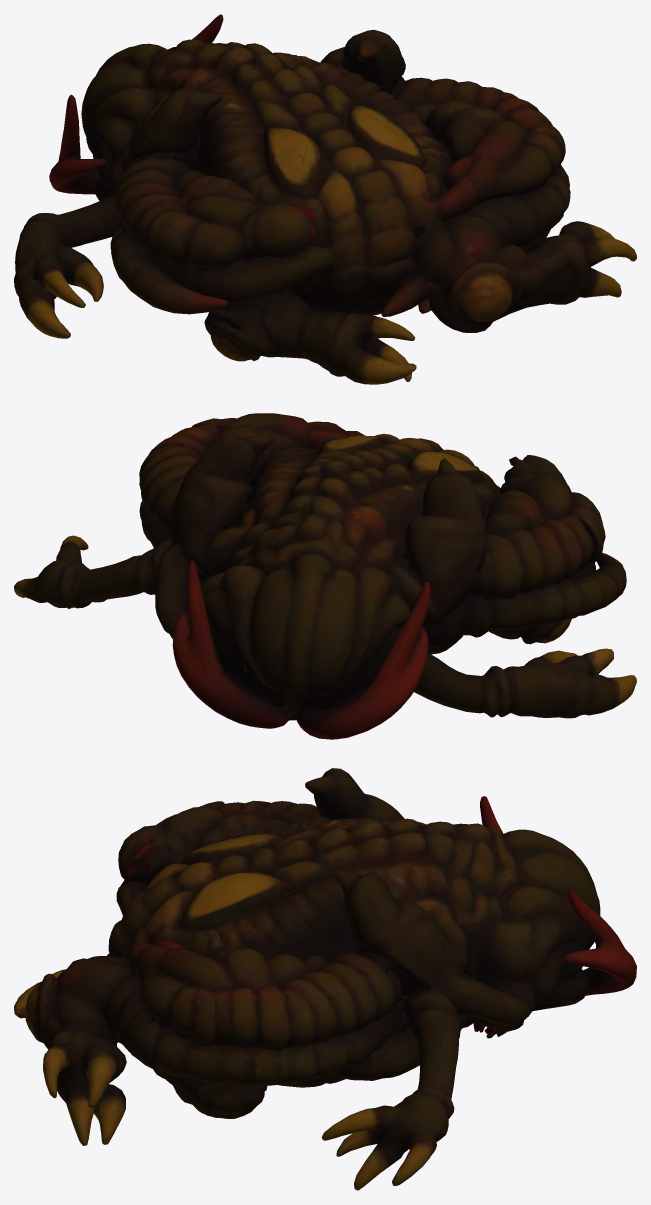
File: TROOM0_2026-08-23T132422.362.glb
3 renders of one model, top to bottom at view 1: azimuth 30°, elevation 25°; view 2: azimuth 150°, elevation 25°; view 3: azimuth 270°, elevation 25°, orthographic. The views are drawn at different scales.
Visible parts, largest first — view 1: world; view 2: world; view 3: world.
Part boxes in pixels (x1=…): world: x1=14, y1=14, x2=636, y2=384; world: x1=14, y1=413, x2=636, y2=739; world: x1=14, y1=768, x2=636, y2=1190.
Size of the model in its own units: 1 by 0.3684 by 0.9078.
Materials: 1 (1 with a texture image).
